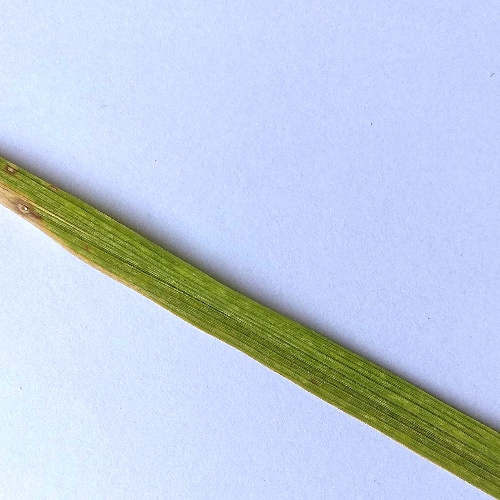Busuk Leher: (3, 185, 38, 230), (6, 159, 23, 179)
